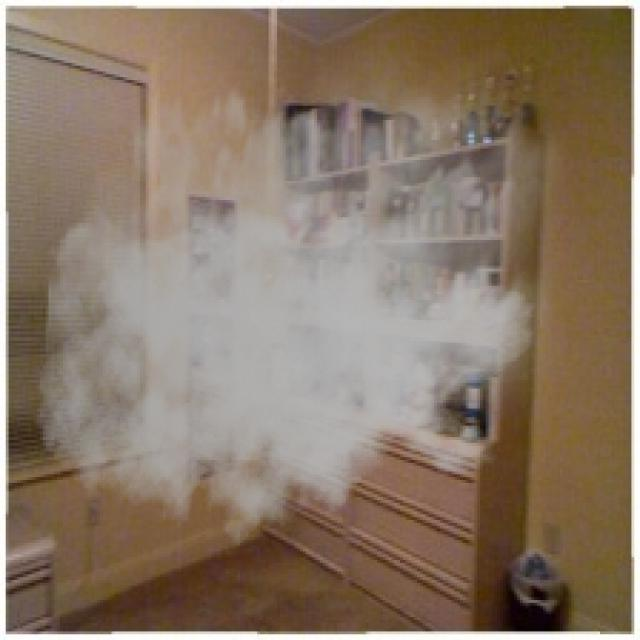smoke: (34, 26, 586, 563)
